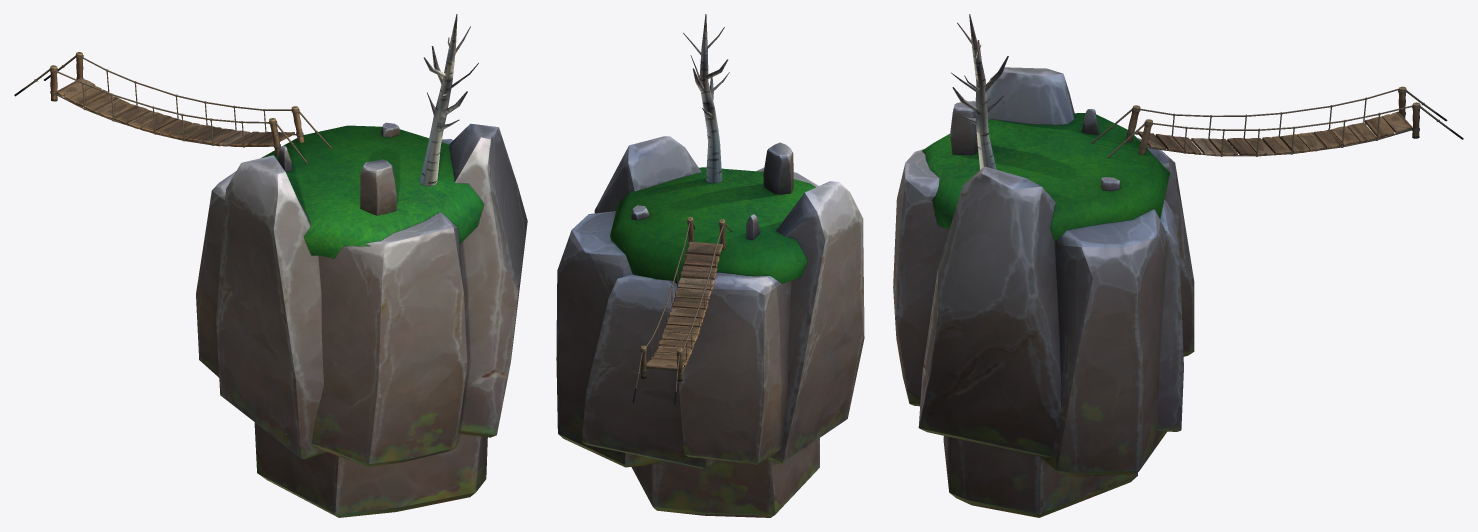
File: circles-island-1.glb
3 views of the same model, side by side, from view 1: azimuth 30°, elevation 25°; view 2: azimuth 150°, elevation 25°; view 3: azimuth 270°, elevation 25° (orthographic). The views are drawn at different scales.
Parts seen in each view (by area): view 1: island_1; view 2: island_1; view 3: island_1.
Part boxes in pixels (box(x1,y1,x2,y2)): island_1: box(14, 14, 527, 517); island_1: box(556, 14, 864, 517); island_1: box(893, 14, 1463, 517).
Bounding box in the file's own units: 10.51 × 16.38 × 17.37.
1 material, 1 textured.
